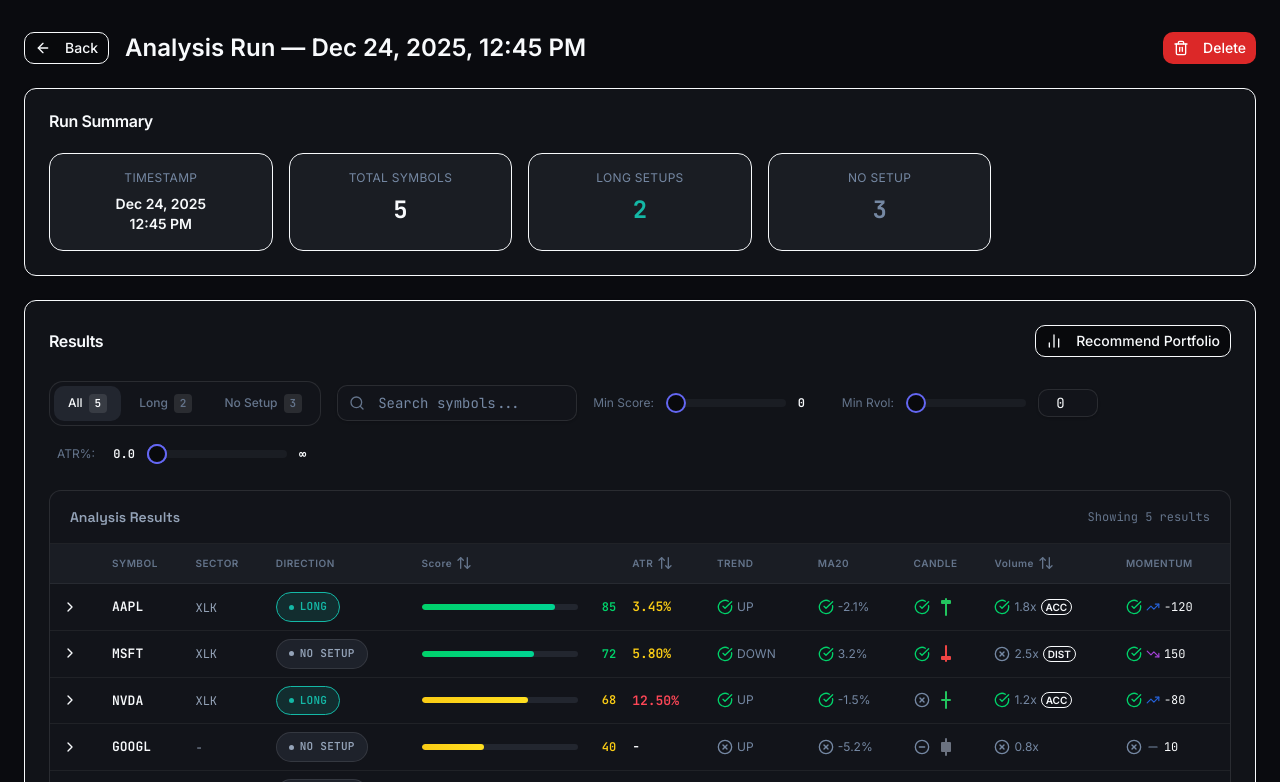
Test case: Live20RunDetail › Delete Functionality › opens confirmation dialog when delete button clicked
The image size is (1280, 782).
Expected: the text "AAPL" is shown, top-left (112, 598), bottom-right (143, 615)
Click the button "Delete" at (1210, 48), box top-left (1163, 32), bottom-right (1256, 64)
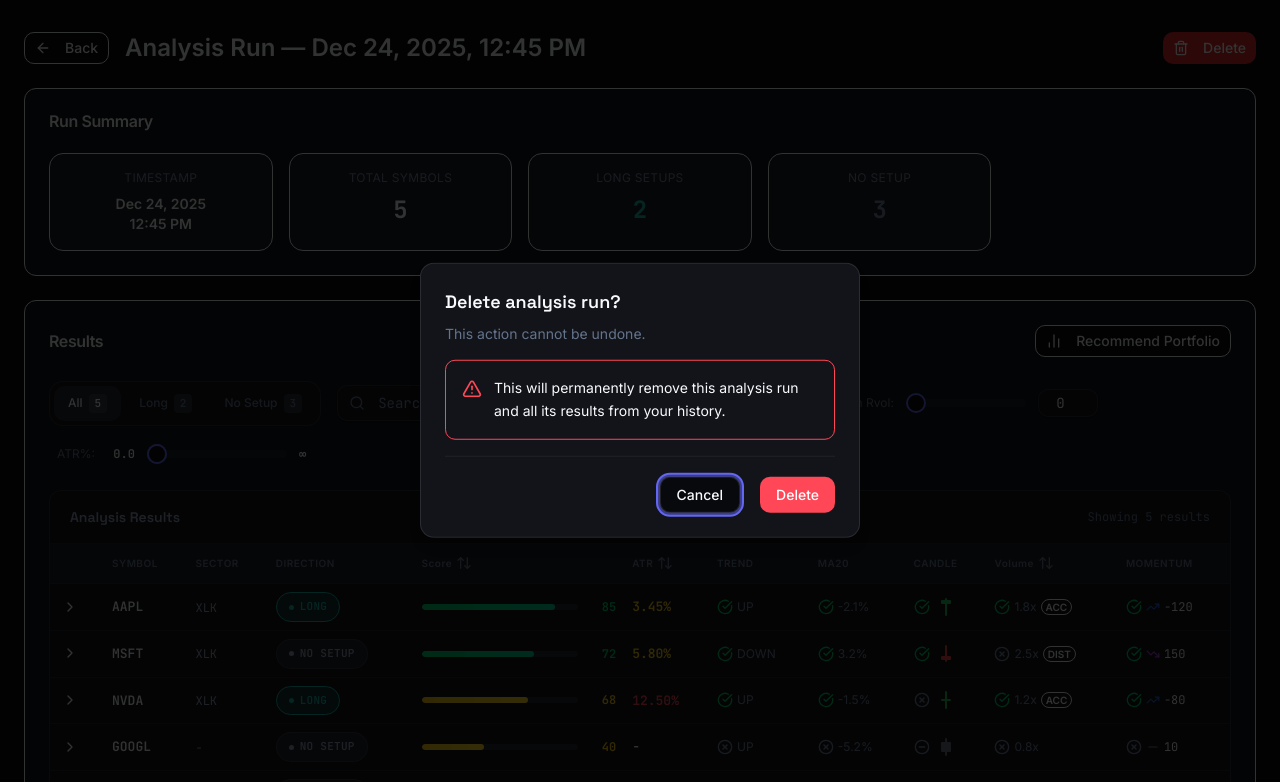
Expected: the heading "Delete analysis run?" is shown, top-left (445, 290), bottom-right (621, 313)
Expected: the text "This will permanently remove this analysis run" is shown, top-left (494, 377), bottom-right (818, 422)
Expected: the button "Cancel" is shown, top-left (660, 476), bottom-right (740, 512)
